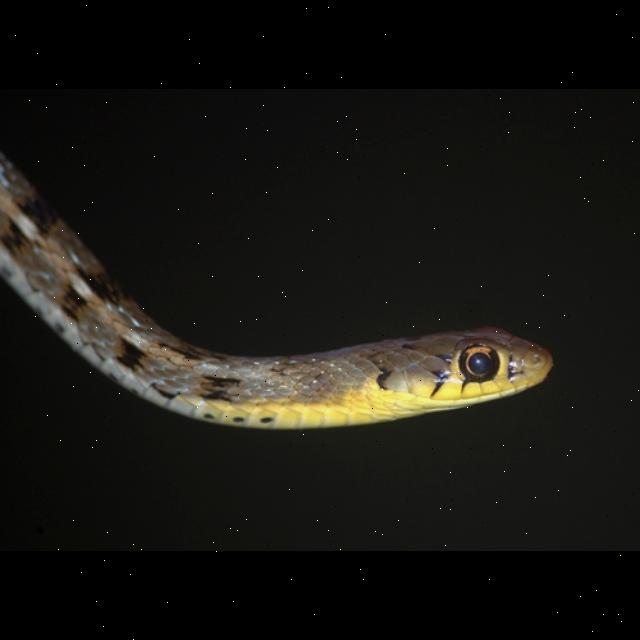snake: (1, 144, 579, 443)
